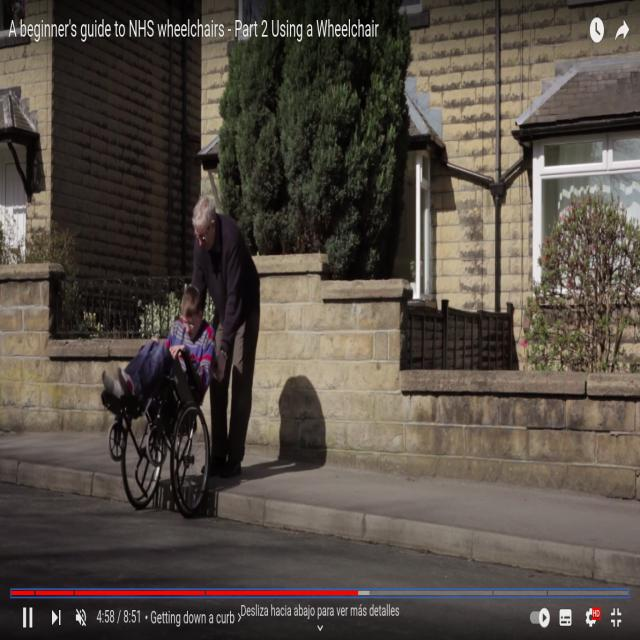wheelchairs: (106, 338, 214, 527)
